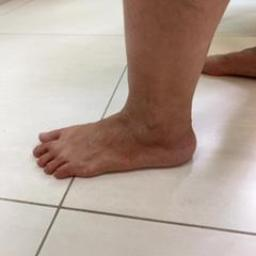Lateral View -Left Foot-: (15, 80, 220, 196)
